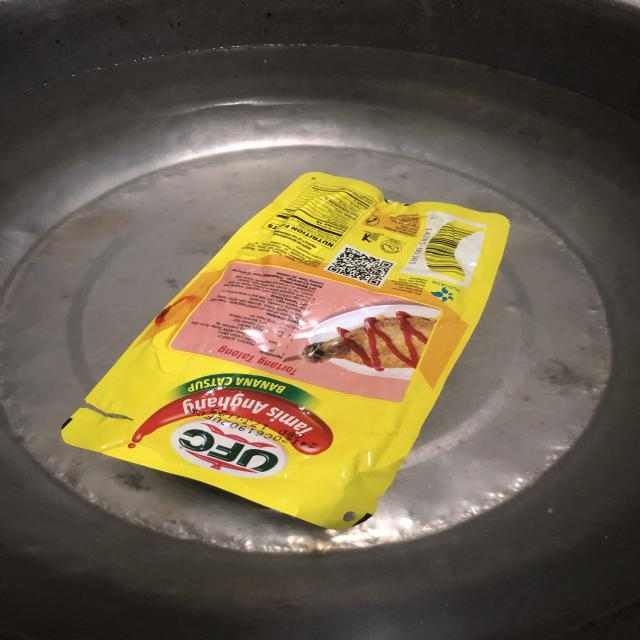Plastic Pouch: (34, 157, 546, 546)
